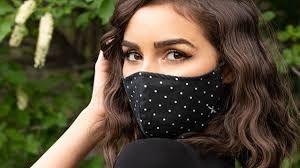with-mask: (104, 2, 250, 146)
